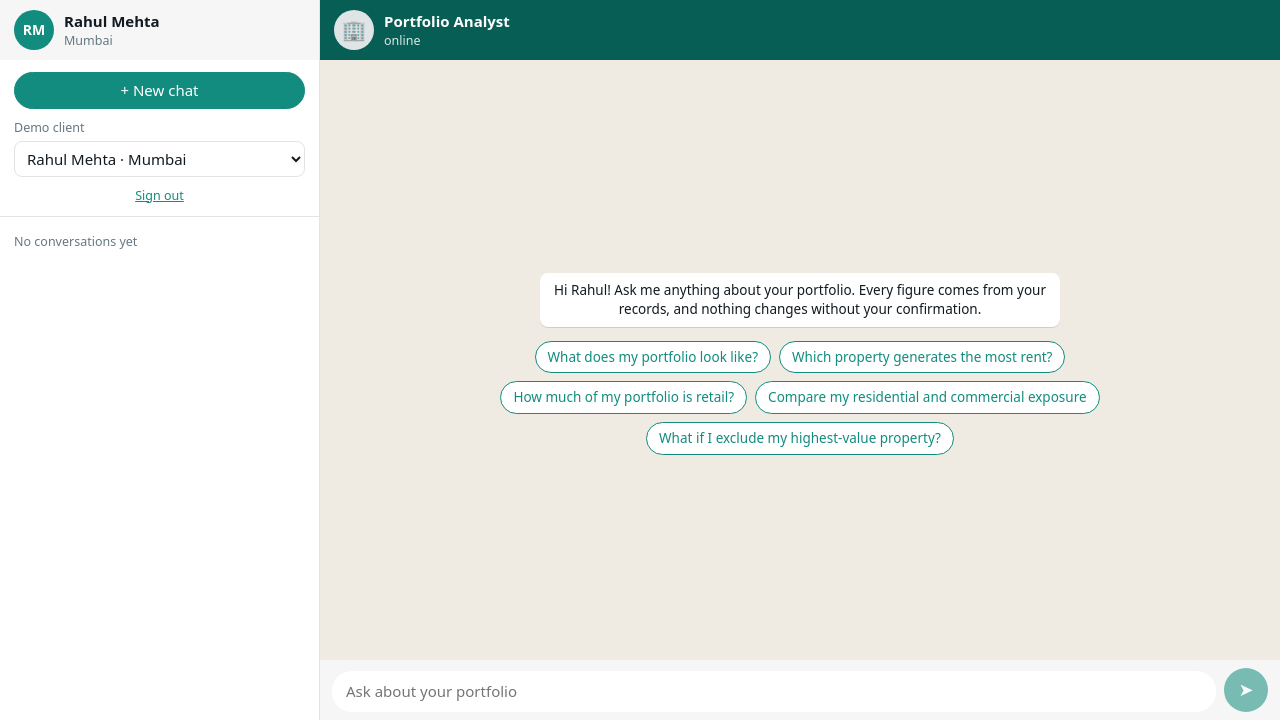
ChatApp › streams a reply, shows a proposal card, and confirms via the button endpoint
In the text box named "Message": [774, 692] box [332,671,1216,712], type "Change my Bandra retail property value to ₹12.5 crore"
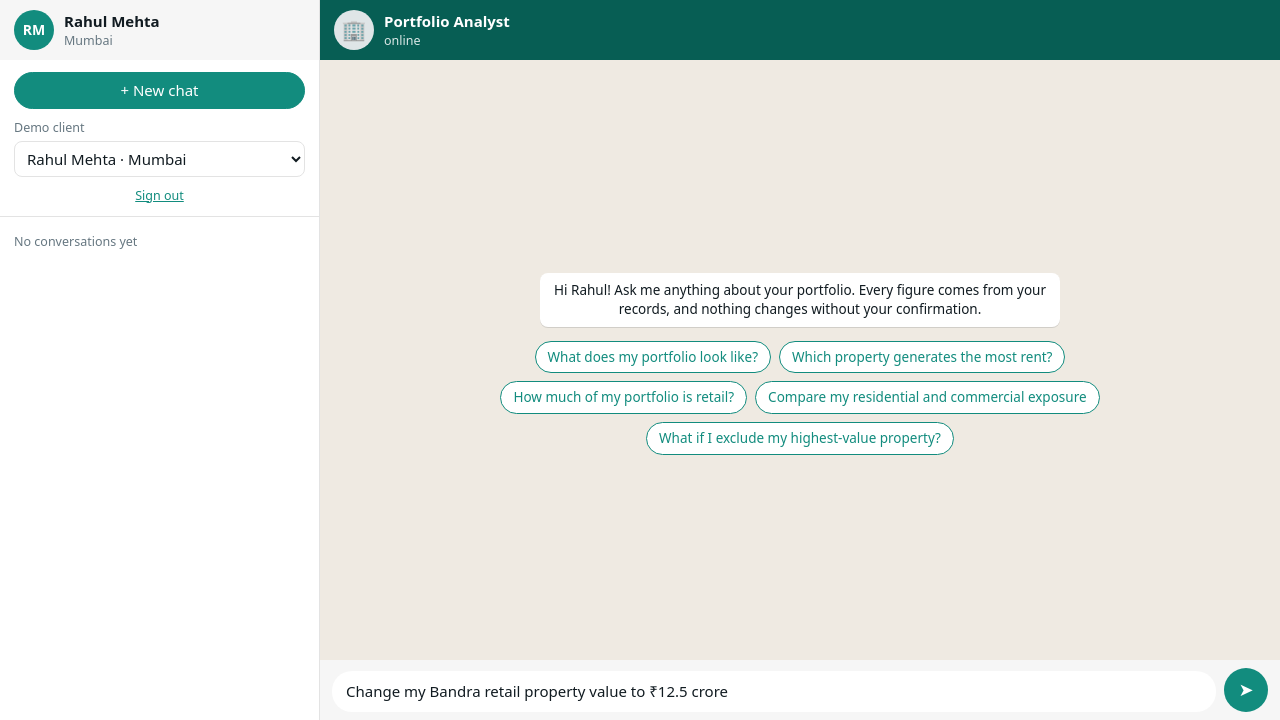
Click the button named "Send": [1246, 690] box [1224,668,1268,712]
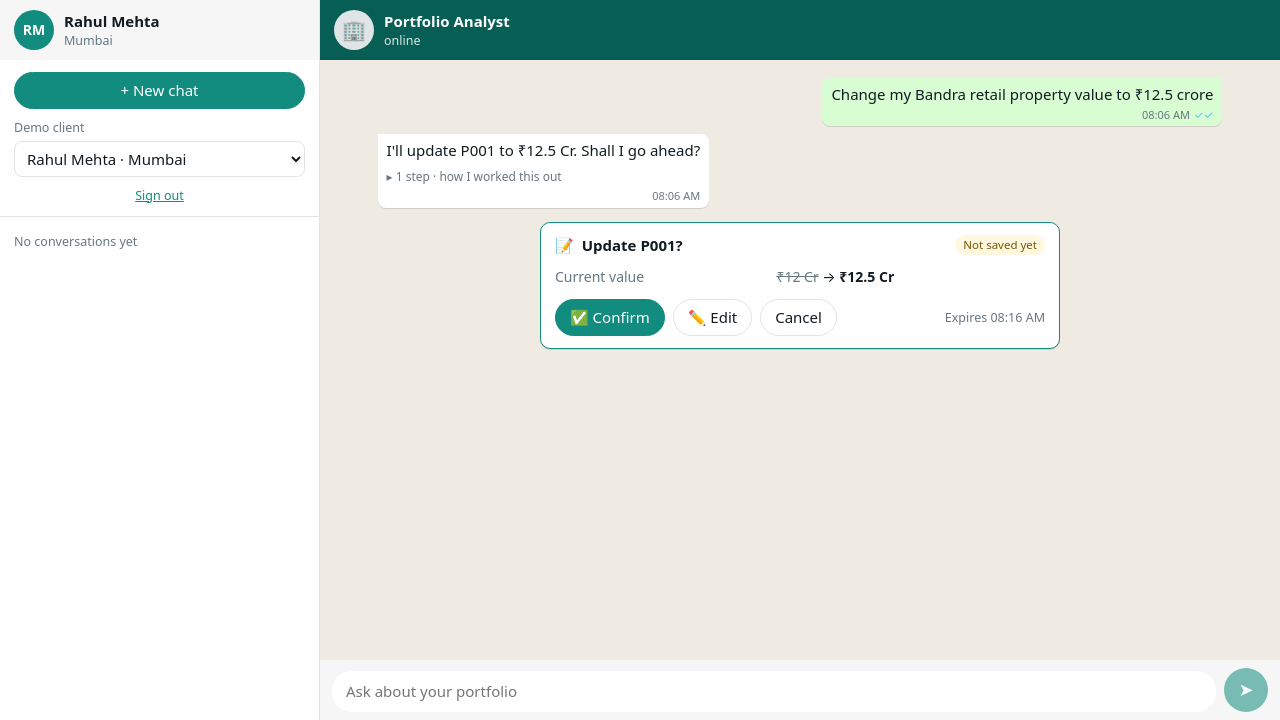
Expected: the element with test id "pending-card" shows "₹12 Cr → ₹12.5 Cr", [540,222,1060,349]
Expected: the text "I'll update P001 to ₹12.5 Cr. Shall I go ahead?" is shown, [387,140,700,161]
Click the button "✅ Confirm": [610, 318] box [555,299,665,336]
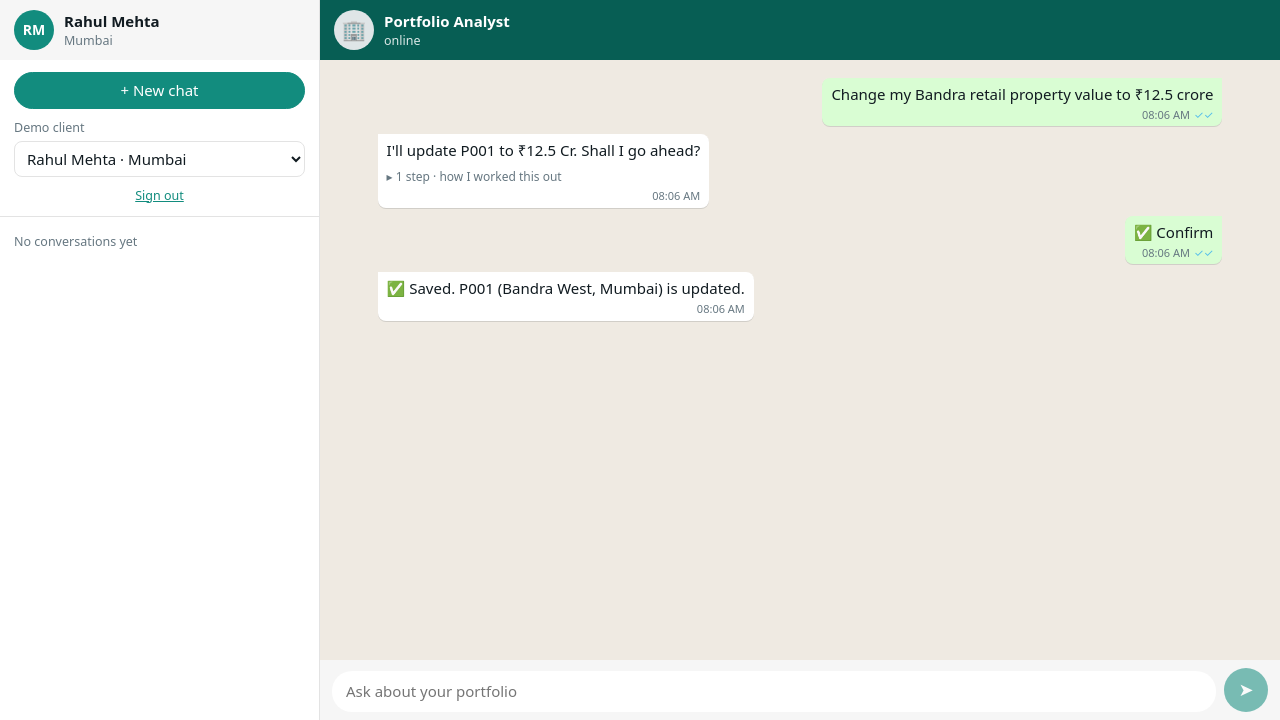
Expected: the text "✅ Saved. P001 (Bandra West, Mumbai) is updated." is shown, [387,278,745,299]
Expected: the element with test id "pending-card" is gone
